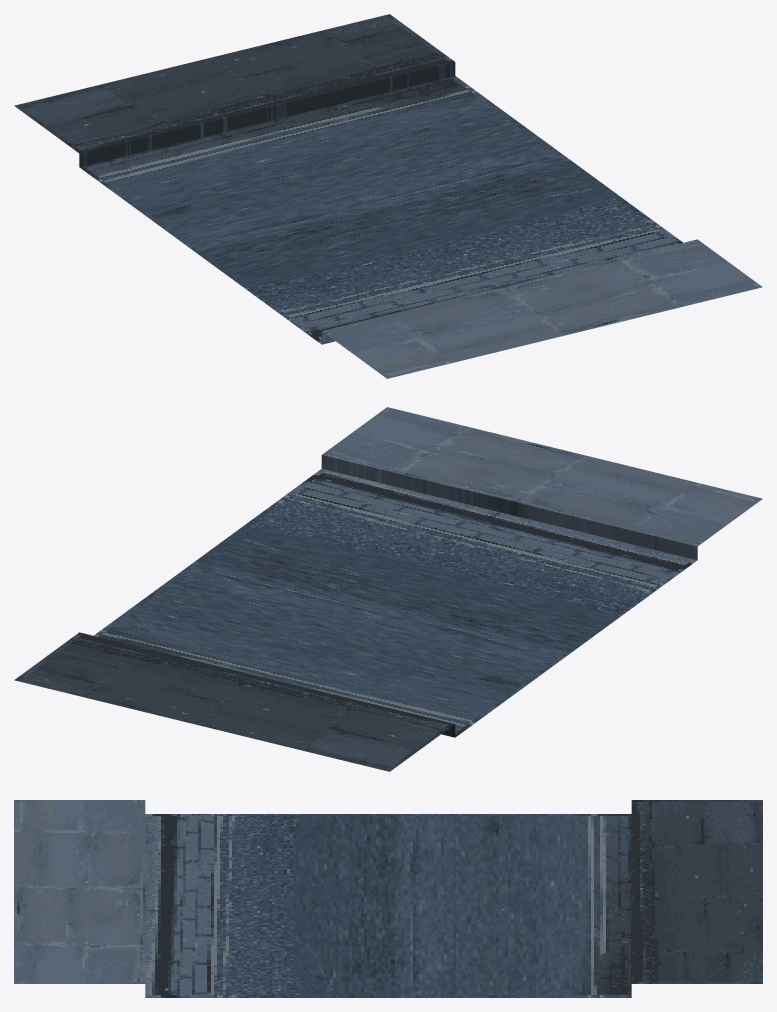
The model's file is roads.glb.
The picture shows the model from 3 angles, top to bottom: view 1: azimuth 30°, elevation 25°; view 2: azimuth 150°, elevation 25°; view 3: azimuth 270°, elevation 25°; orthographic projection.
Parts seen in each view (by area): view 1: Road, Curb.l, Curb.r; view 2: Road, Curb.r, Curb.l; view 3: Road, Curb.r, Curb.l.
Boxes of the visible parts, x1,y1,x2,y2 form: Road: (80,76,682,344); Curb.l: (14,14,455,167); Curb.r: (321,239,762,378); Road: (94,469,696,737); Curb.r: (321,407,762,560); Curb.l: (14,632,455,771); Road: (145,814,631,997); Curb.r: (14,800,145,983); Curb.l: (631,800,762,983).
Size of the model in its own units: 4.73 by 0.1649 by 8.13.
1 material, 1 textured.
